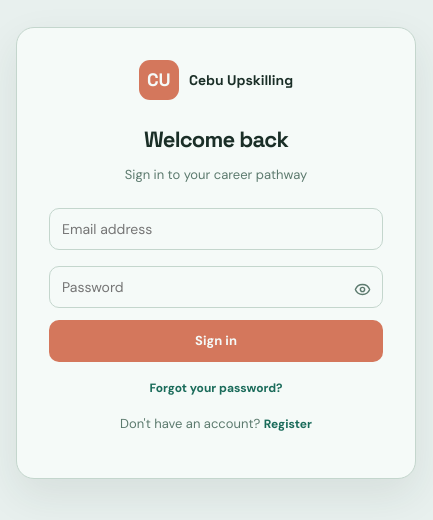
Test: LoginPage › clears the email field error as the user types
This screenshot has width=433, height=520.
In the field with placeholder "Email address": x=216, y=229 [49,208,383,250], type "not-an-email"
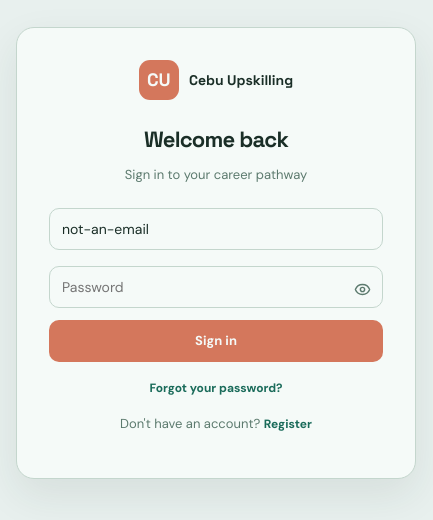
In the password field with placeholder "Password": x=216, y=287 [49,266,383,308], type "secret123"
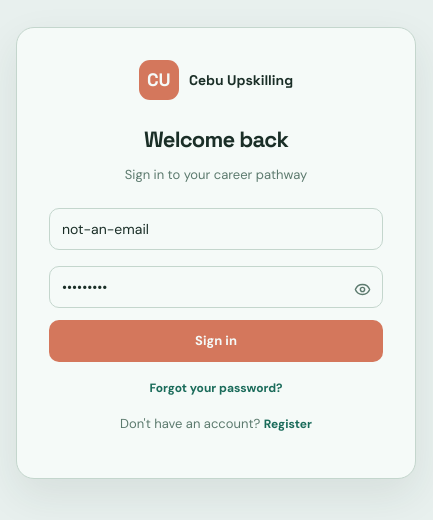
Click the button "Sign in": x=216, y=341 [49,320,383,362]
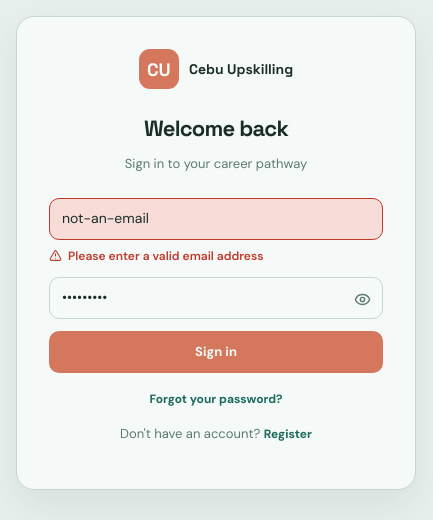
Result: the text "Please enter a valid email address" is shown at [68,248,264,264]
Replace the text in the field with placeholder "Email address" with "jose@example.com": x=216, y=219 [49,198,383,240]
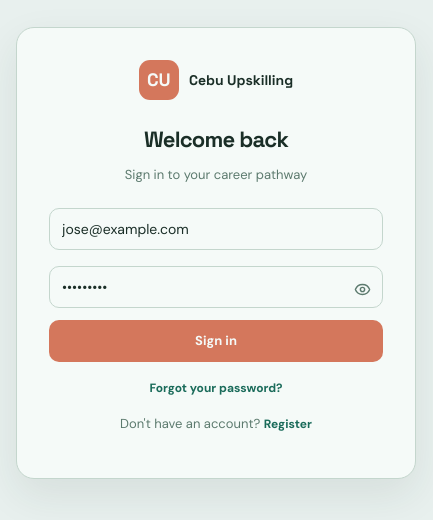
Result: the text "Please enter a valid email address" is gone
